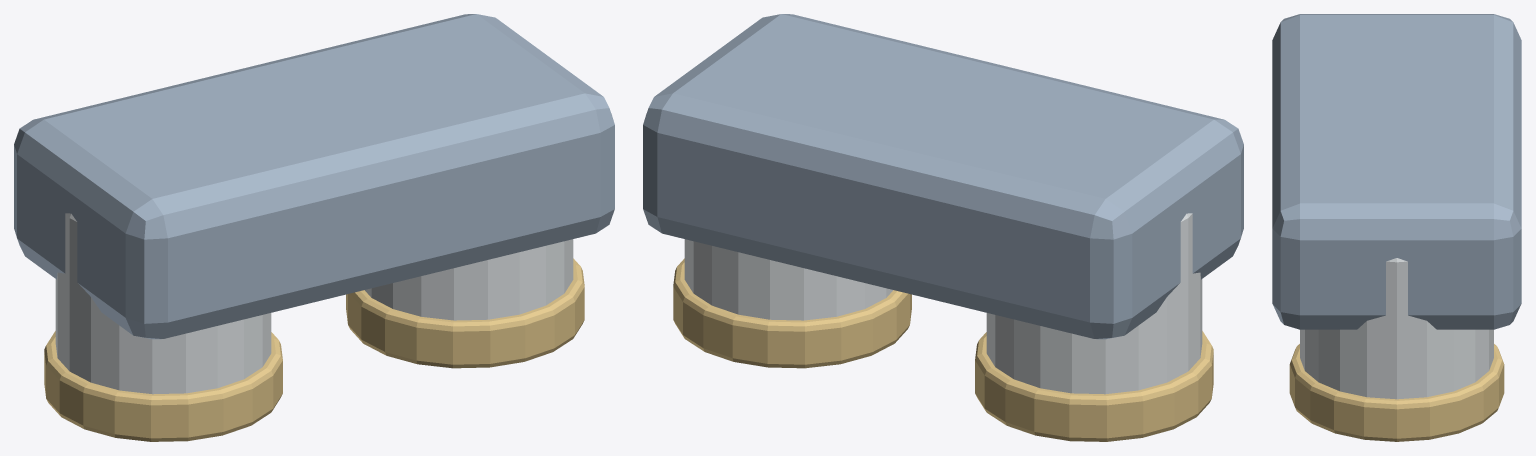
Rendered from FlightDrive.fbx.
The picture shows the model from 3 angles, left to right: view 1: azimuth 30°, elevation 25°; view 2: azimuth 150°, elevation 25°; view 3: azimuth 270°, elevation 25°; orthographic projection. The views are drawn at different scales.
Visible parts, largest first — view 1: FlightDrive; view 2: FlightDrive; view 3: FlightDrive.
Part boxes in pixels (x1,y1,x2,y2): FlightDrive: (14,14,614,441); FlightDrive: (643,14,1243,441); FlightDrive: (1272,14,1521,441).
Size of the model in its own units: 1.52 by 0.7375 by 0.72.
